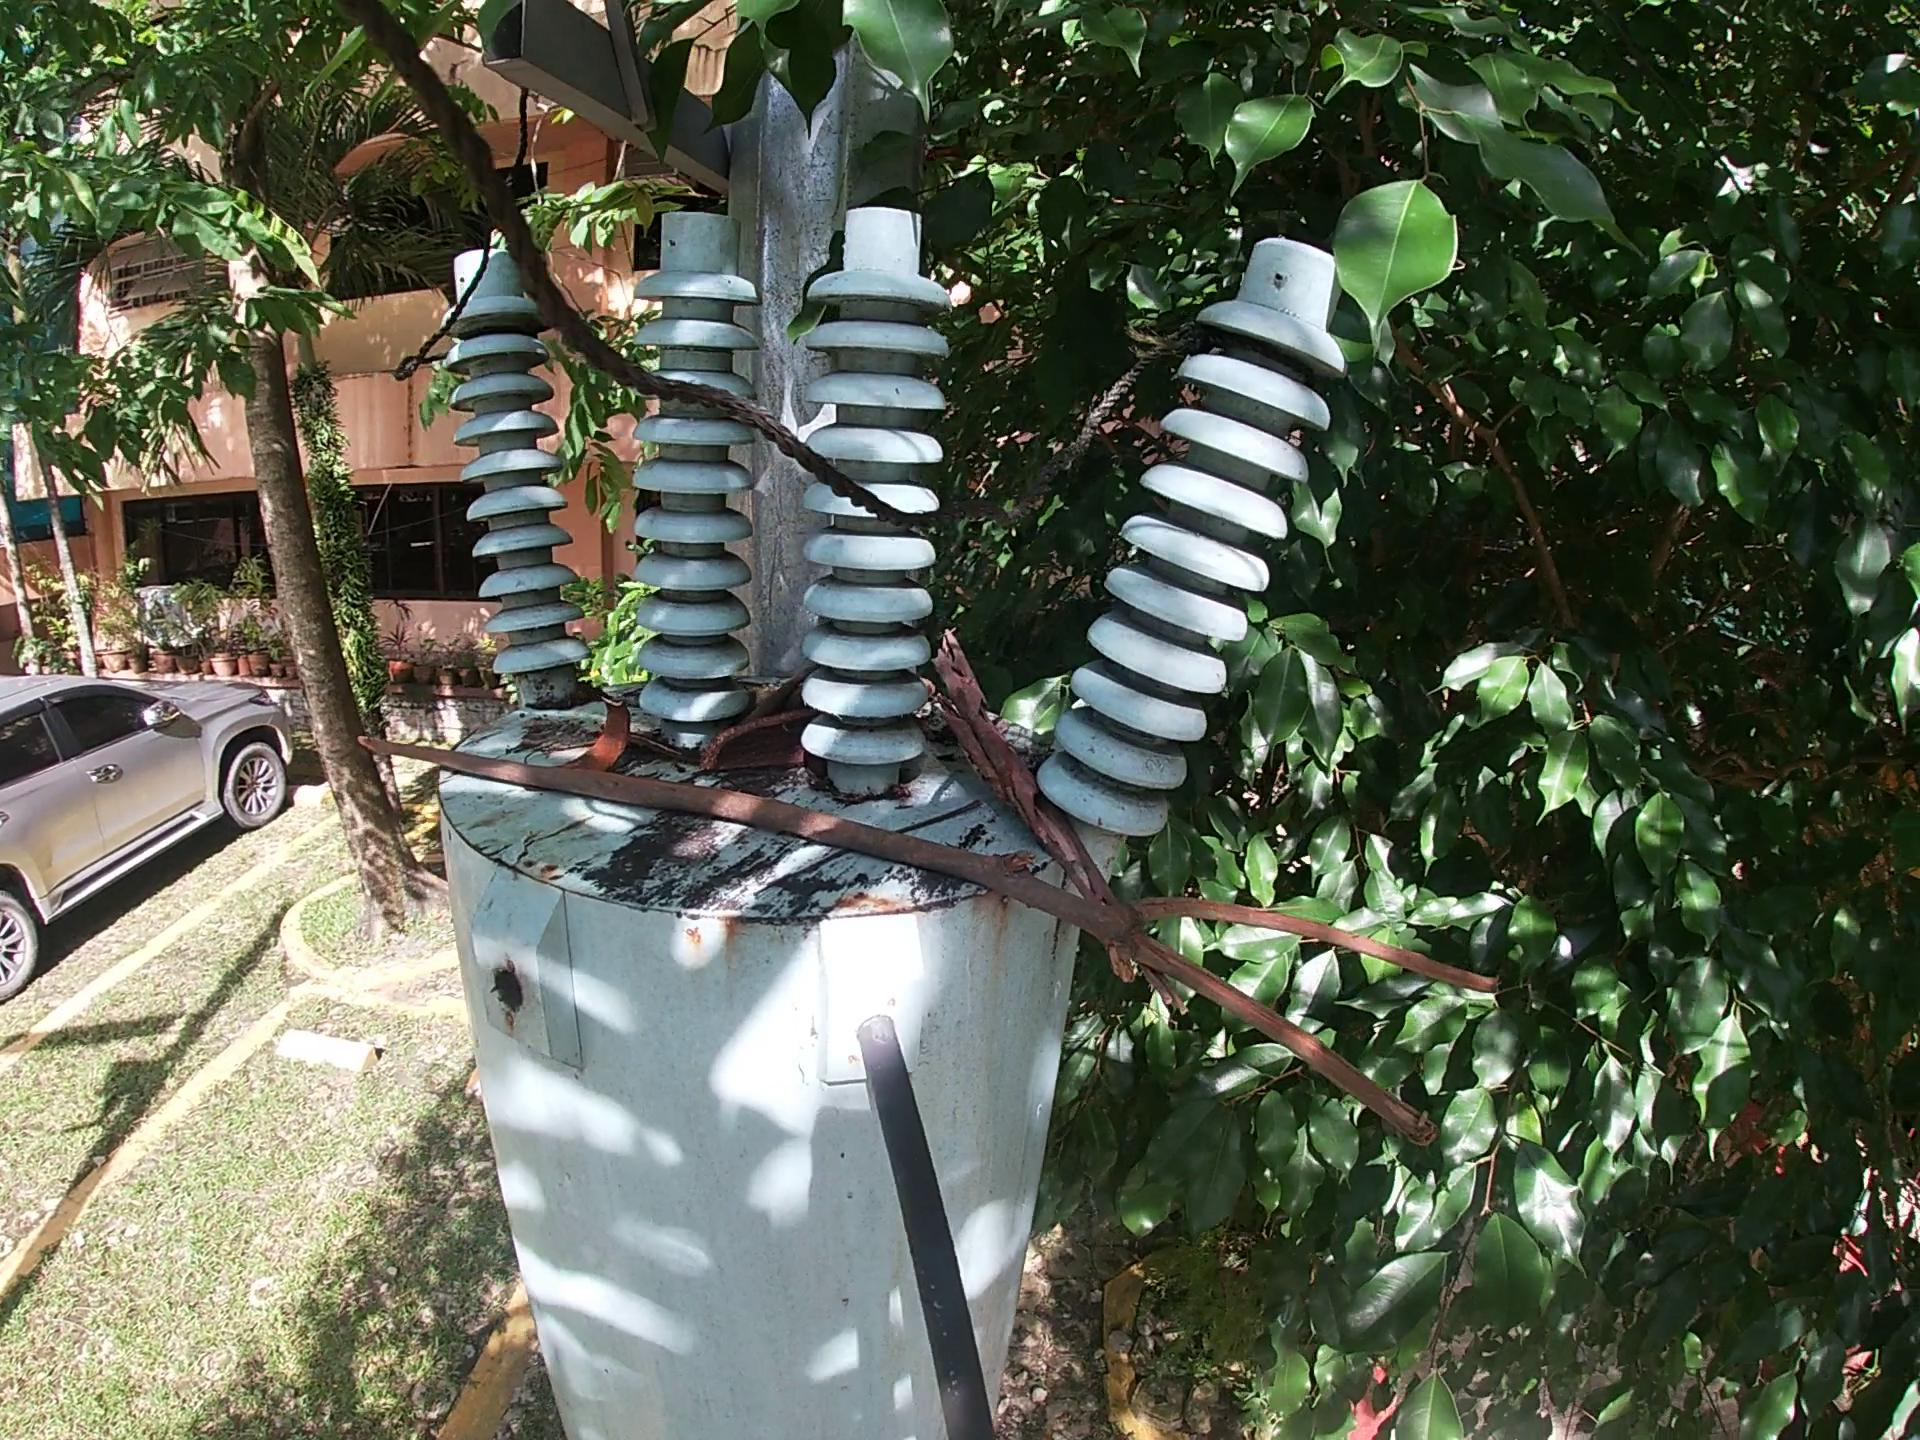mahogany fruit: (691, 703, 825, 782), (547, 690, 646, 777)
tree branch: (349, 728, 1512, 1157), (915, 626, 1188, 1032)
